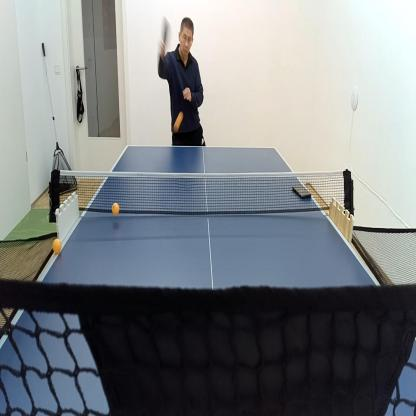Ball: (174, 112, 182, 132), (53, 240, 61, 251), (112, 204, 119, 216)
